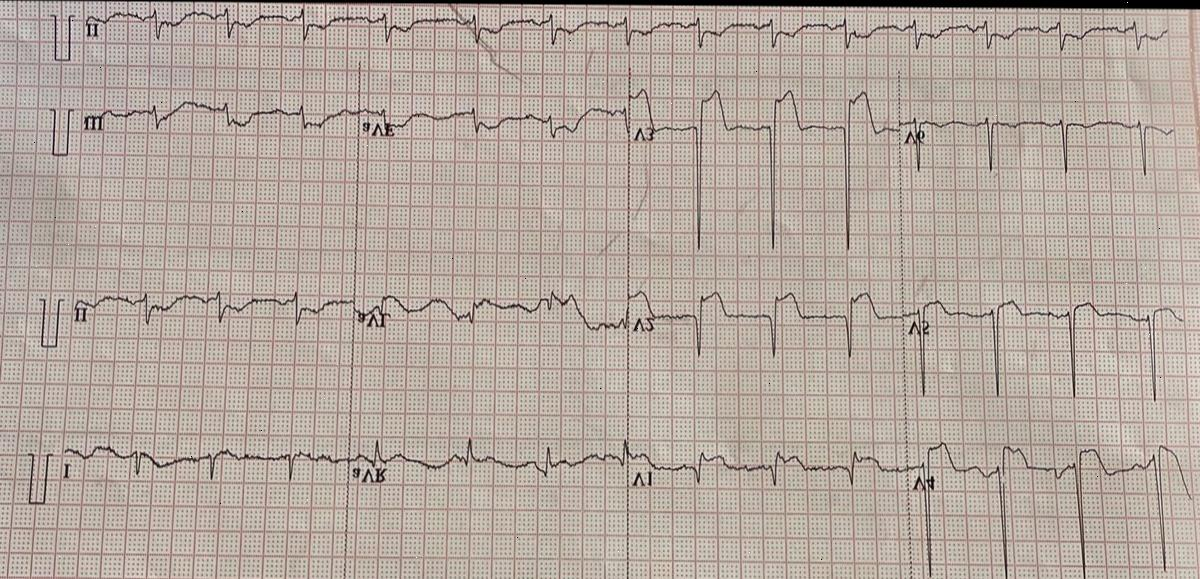Lead_I: (54, 413, 350, 494)
Lead_II: (62, 261, 354, 350)
Lead_III: (78, 88, 359, 155)
Lead_II_ext: (74, 2, 1172, 71)
Lead_V1: (628, 422, 894, 512)
Lead_V2: (628, 266, 904, 373)
Lead_V3: (629, 77, 900, 265)
Lead_V4: (904, 412, 1200, 579)
Lead_V5: (905, 272, 1190, 420)
Lead_V6: (899, 96, 1179, 196)
Lead_aVF: (356, 83, 629, 159)
Lead_aVL: (354, 276, 624, 354)
Lead_aVR: (351, 423, 627, 495)
